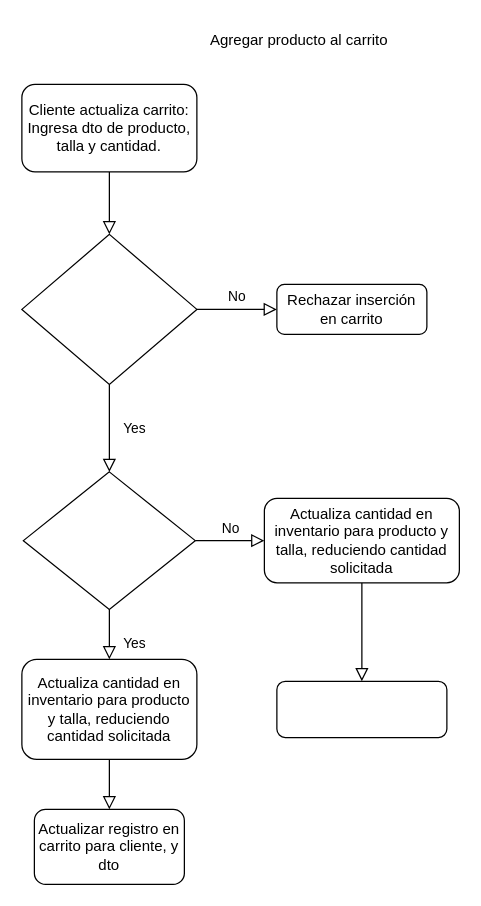
The diagram is 481 pixels wide and 906 high, and some of its shapes have lost their labels. The shapes that lost their labels are listed below. From the top down, each one's centre as x and y in pixels, then its label:
the point at 109,308: inventario soporta la cantidad solicitada para ese producto y talla?
the point at 108,540: Existe registro de ese producto en carrito de cliente?
the point at 361,709: Crear registro en carrito de cliente para ese dto
